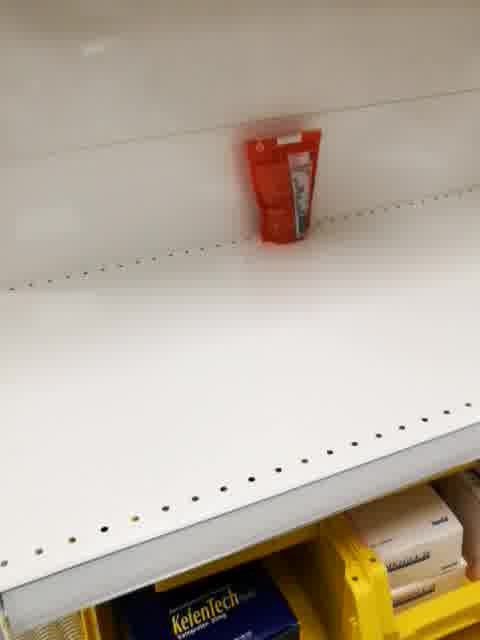whitechia: (239, 127, 330, 247)
